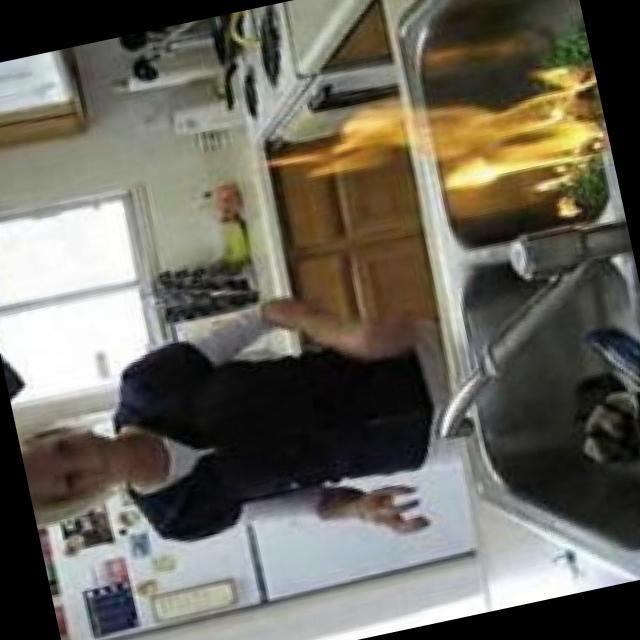Fire: (276, 53, 617, 249)
